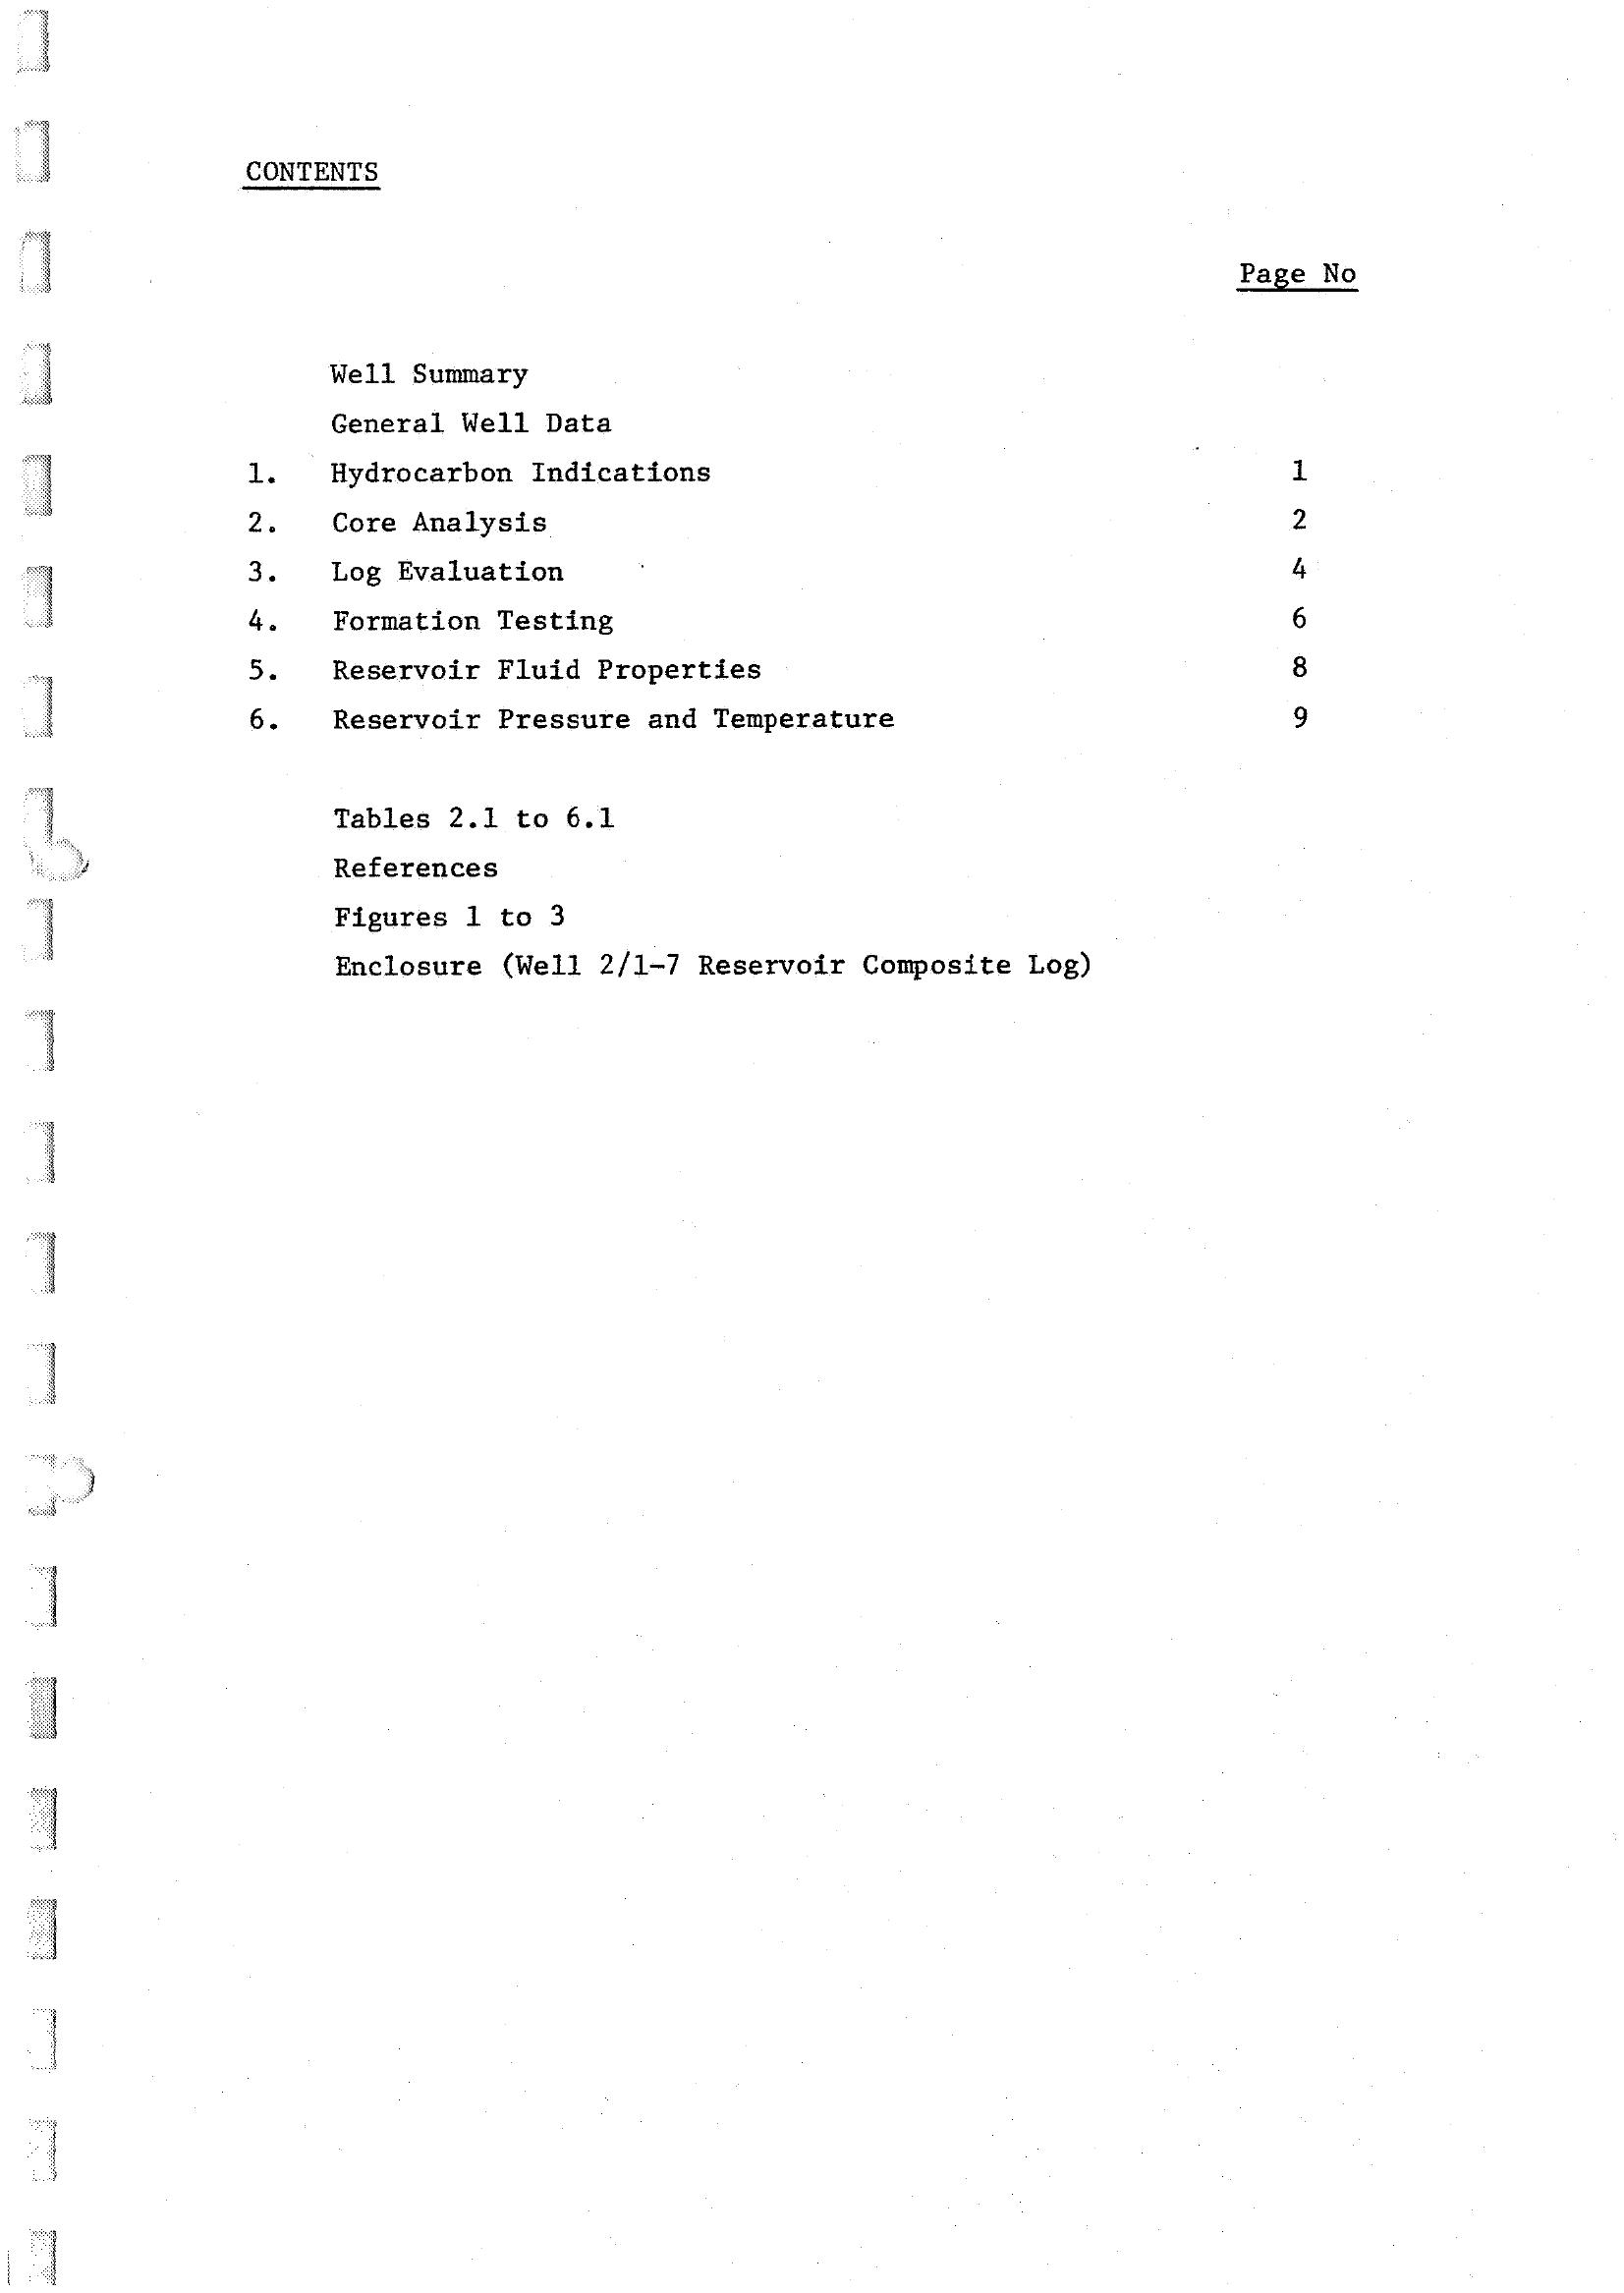text: (200, 135, 1415, 1019)
